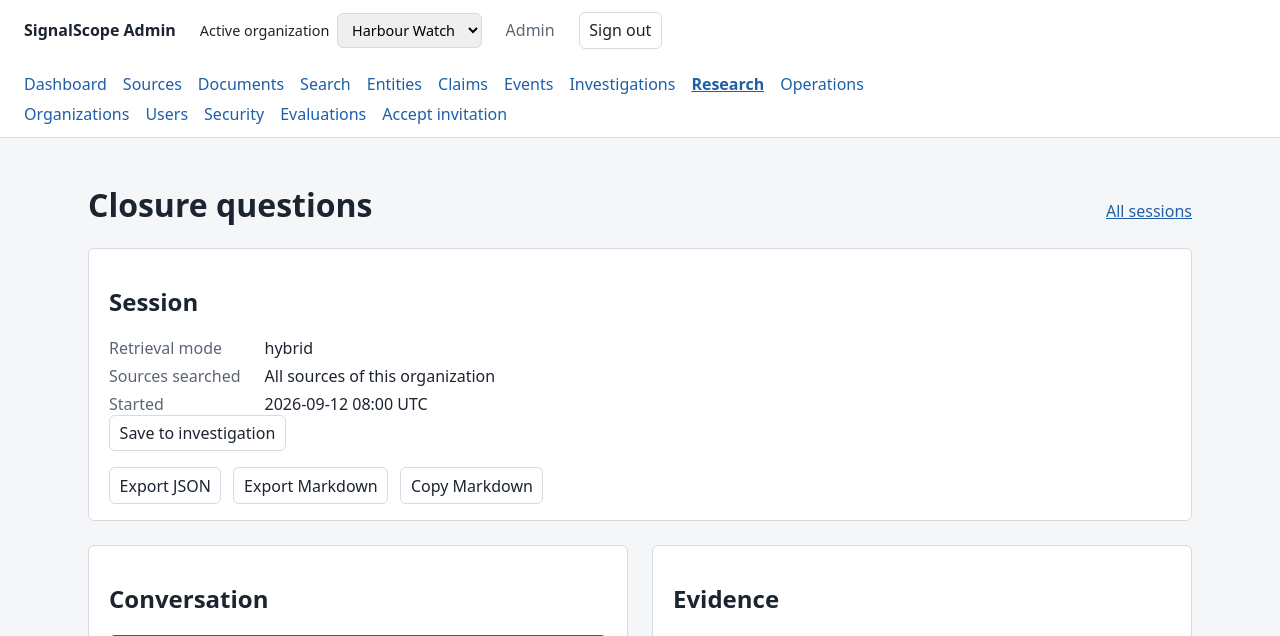
exports › shows a failed export
Step 1. Click the button "Export JSON" → [165, 486], box [109, 467, 221, 504]
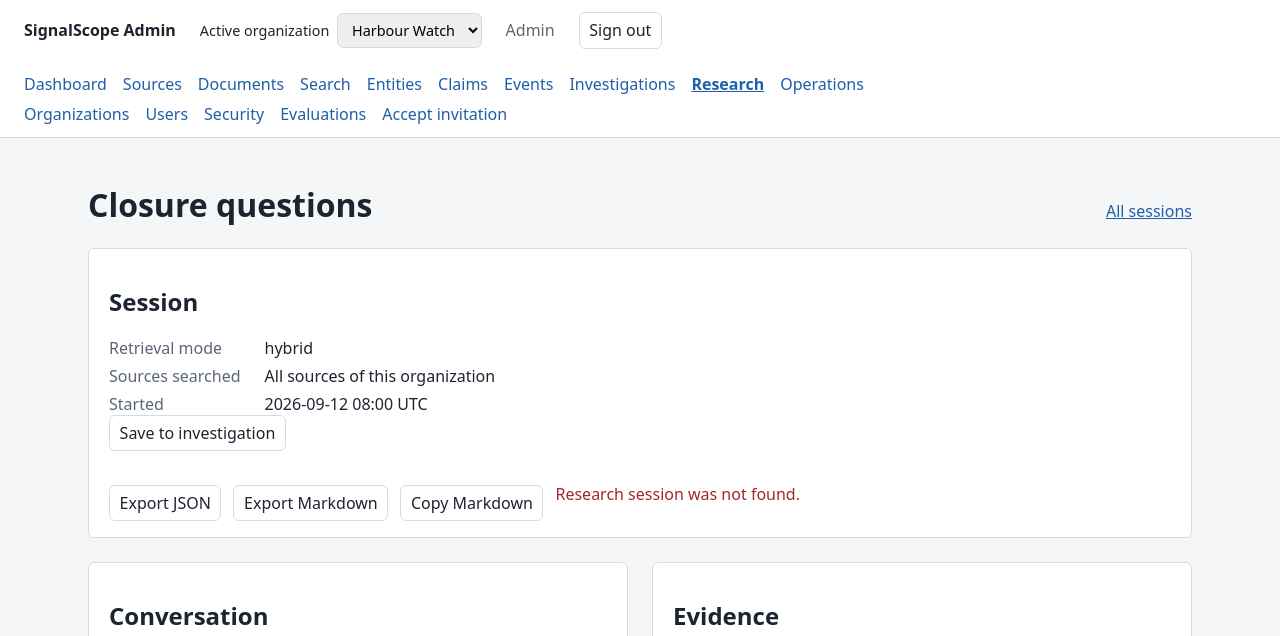
Expected: the message reads "Research session was not found.", [556, 483, 800, 505]
